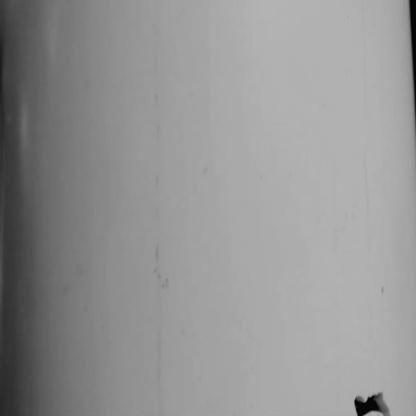kongdong: (345, 379, 398, 414)
